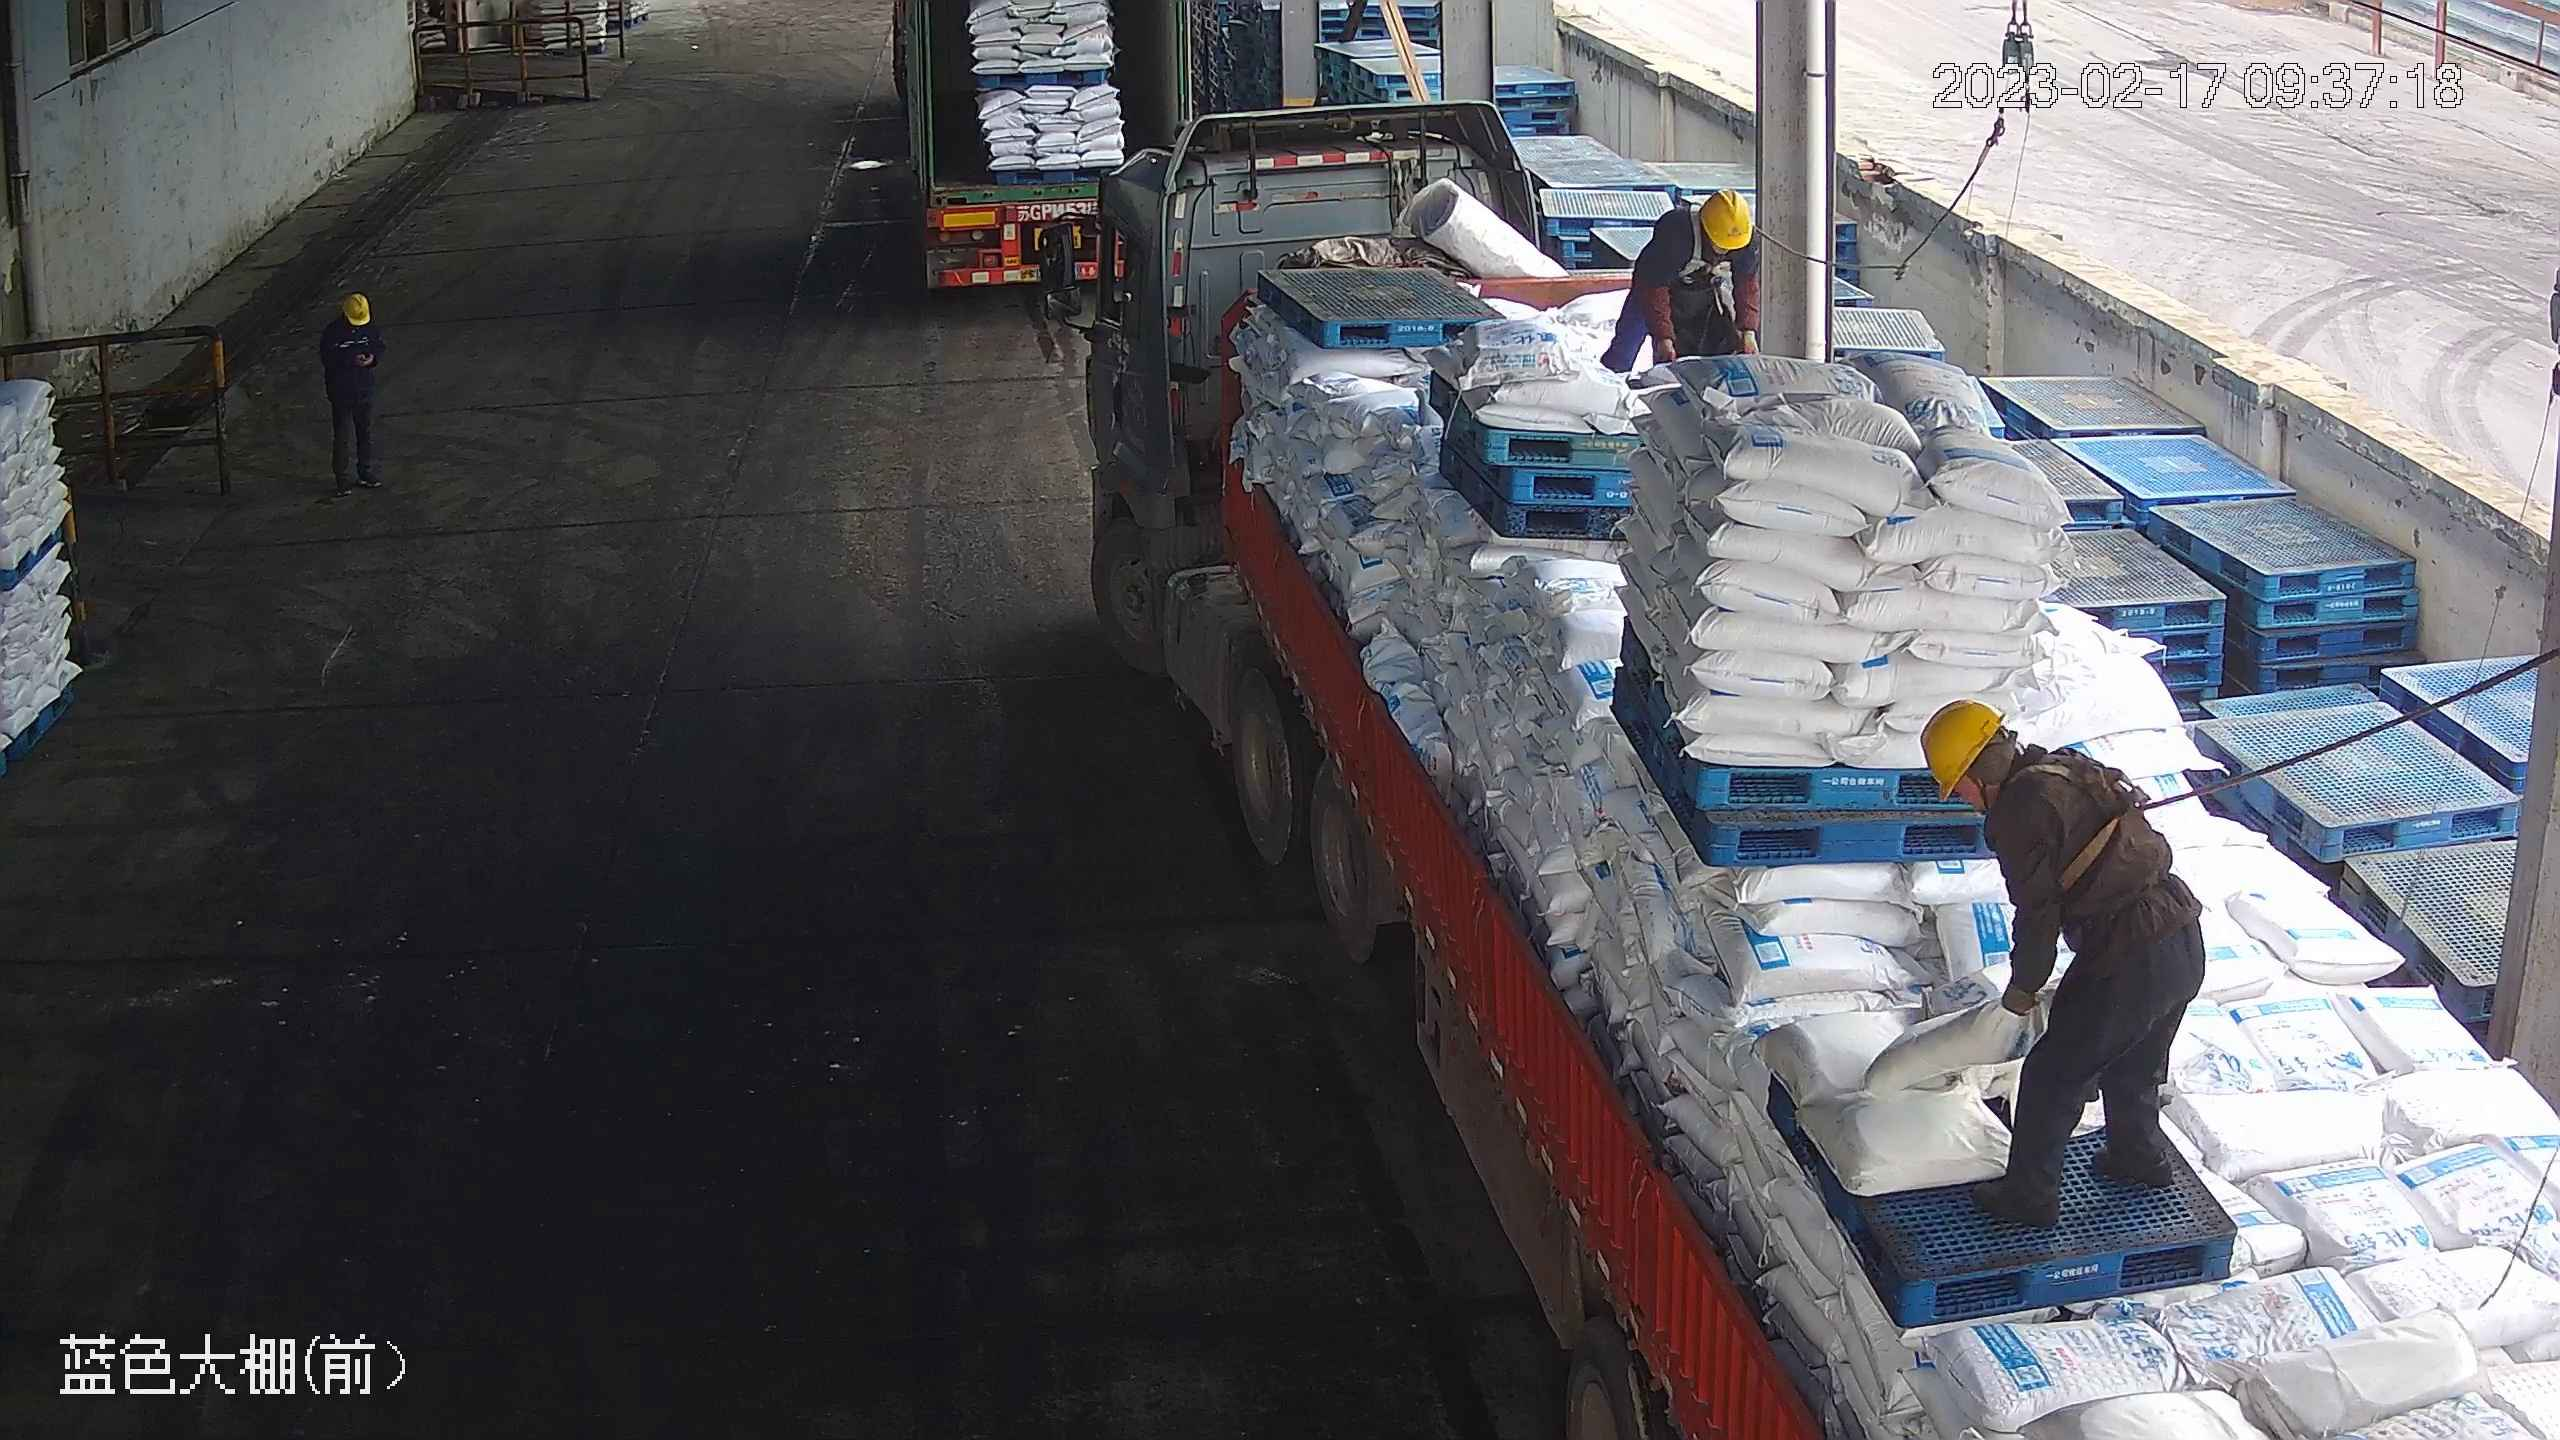belt: (2016, 748, 2171, 888), (1680, 211, 1744, 286)
head: (1921, 696, 2115, 852), (1639, 183, 1759, 287), (318, 291, 382, 349)
helmet: (1915, 695, 2009, 799), (1699, 188, 1760, 253), (340, 291, 372, 322)
people: (1919, 694, 2211, 1231), (1600, 186, 1761, 373), (317, 290, 385, 495)
truck: (1010, 98, 2556, 1440), (890, 1, 1196, 291)
